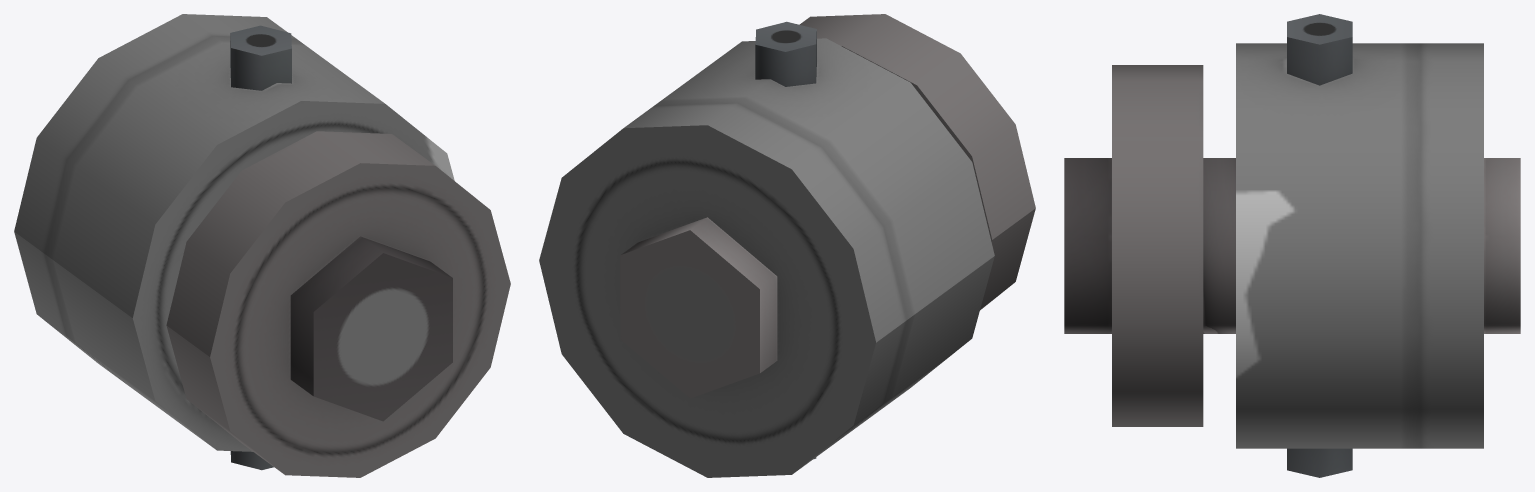
Rendered from obj_interactive_suspensionoffroad_01_on.fbx.
The picture shows the model from 3 angles, left to right: view 1: azimuth 30°, elevation 25°; view 2: azimuth 150°, elevation 25°; view 3: azimuth 270°, elevation 25°; orthographic projection. The views are drawn at different scales.
Parts seen in each view (by area): view 1: obj_interactive_suspensionoffroad_01_on; view 2: obj_interactive_suspensionoffroad_01_on; view 3: obj_interactive_suspensionoffroad_01_on.
Boxes of the visible parts, <box> form: obj_interactive_suspensionoffroad_01_on: <box>14,14,510,477</box>; obj_interactive_suspensionoffroad_01_on: <box>539,14,1035,477</box>; obj_interactive_suspensionoffroad_01_on: <box>1064,14,1520,477</box>.
Bounding box in the file's own units: 1.09 × 1.29 × 1.23.
